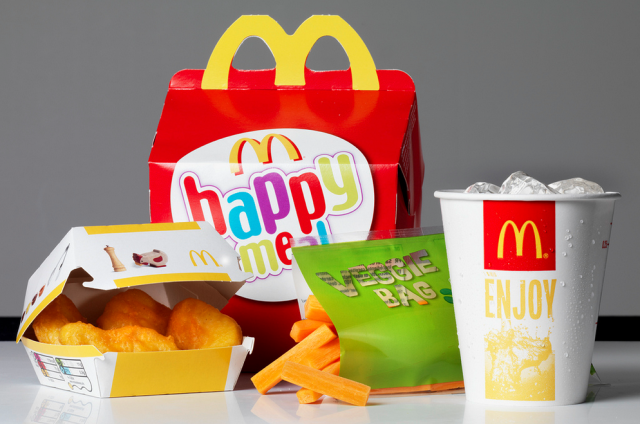mcdonalds: (226, 127, 305, 179), (494, 217, 546, 265), (186, 244, 221, 271)
